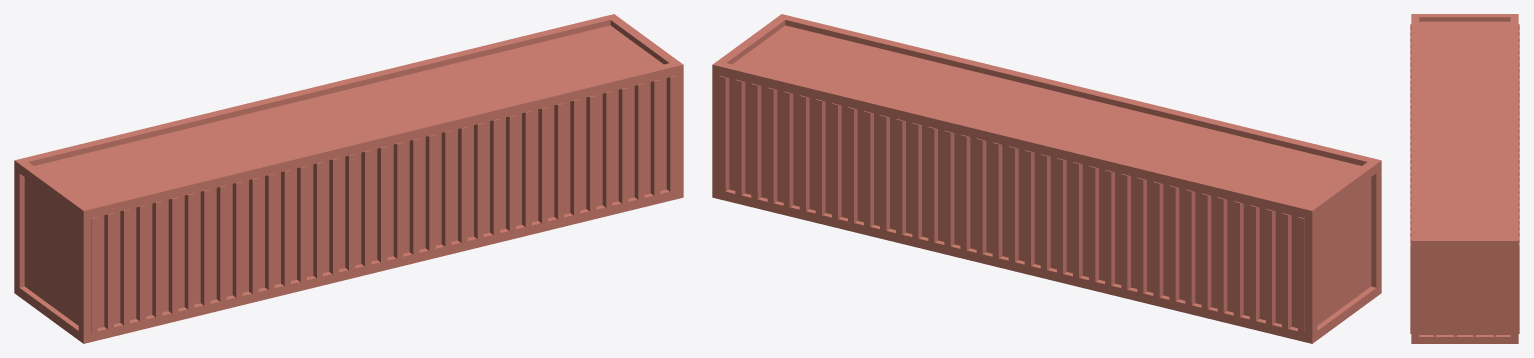
Rendered from Contenedor40.fbx.
3 views of the same model, side by side, from view 1: azimuth 30°, elevation 25°; view 2: azimuth 150°, elevation 25°; view 3: azimuth 270°, elevation 25° (orthographic). The views are drawn at different scales.
Visible parts, largest first — view 1: Contenedor40; view 2: Contenedor40; view 3: Contenedor40.
Part boxes in pixels (<box>): Contenedor40: <box>14,14,683,343</box>; Contenedor40: <box>712,14,1381,343</box>; Contenedor40: <box>1410,14,1519,343</box>.
Bounding box in the file's own units: 3400 × 720 × 692.
